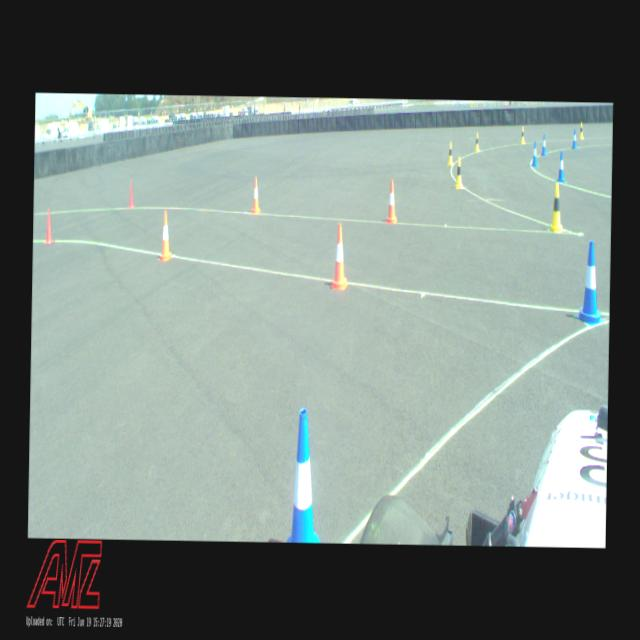blue_cone: (286, 408, 322, 542), (575, 239, 605, 327), (556, 151, 566, 183), (532, 140, 538, 166), (540, 134, 546, 156), (572, 129, 576, 149)
orange_cone: (329, 223, 348, 290), (157, 211, 173, 261), (384, 179, 398, 223), (250, 177, 262, 214)
yellow_cone: (548, 182, 563, 232), (454, 156, 464, 188), (447, 141, 453, 165), (474, 132, 479, 151), (520, 126, 525, 144), (580, 122, 584, 139)
